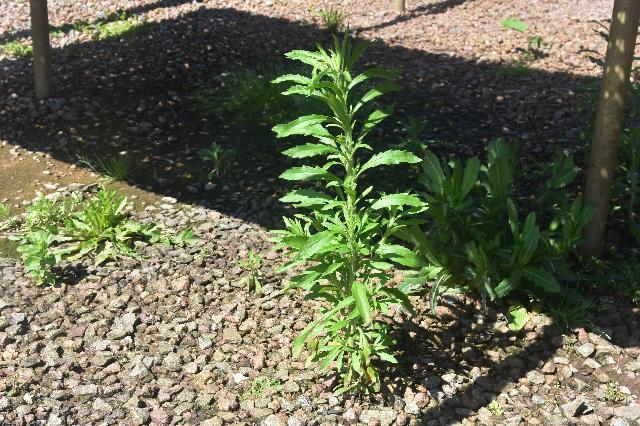MalezaMontesDelPlata: (281, 30, 425, 401), (399, 138, 591, 311), (577, 73, 640, 251), (192, 61, 295, 127), (70, 181, 149, 259), (6, 229, 75, 287), (71, 130, 138, 184), (580, 252, 640, 309), (66, 6, 160, 42), (499, 15, 546, 79), (13, 187, 74, 229), (191, 140, 239, 186), (231, 244, 271, 291), (311, 4, 356, 34), (1, 32, 33, 63)
